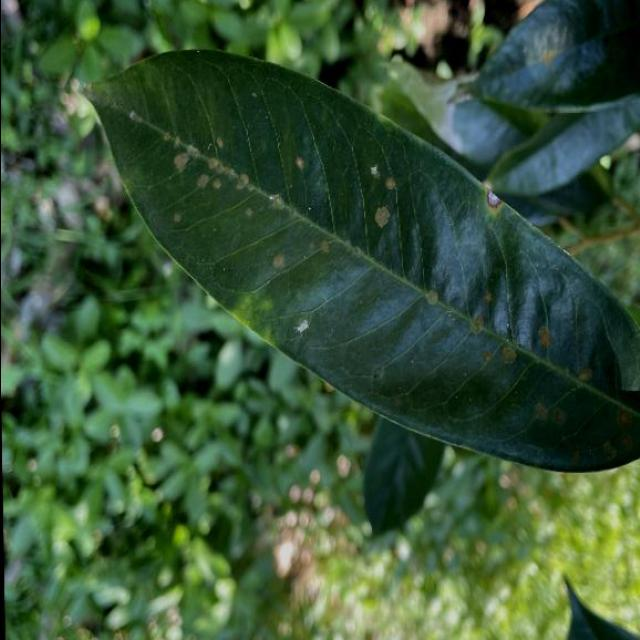Algal Leaf Spot: (78, 26, 640, 490)
